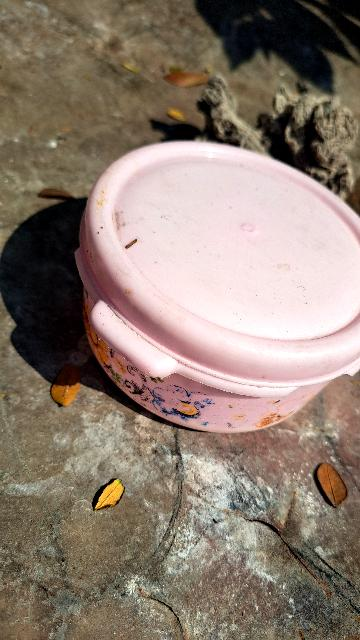hardplastic: (57, 113, 360, 450)
